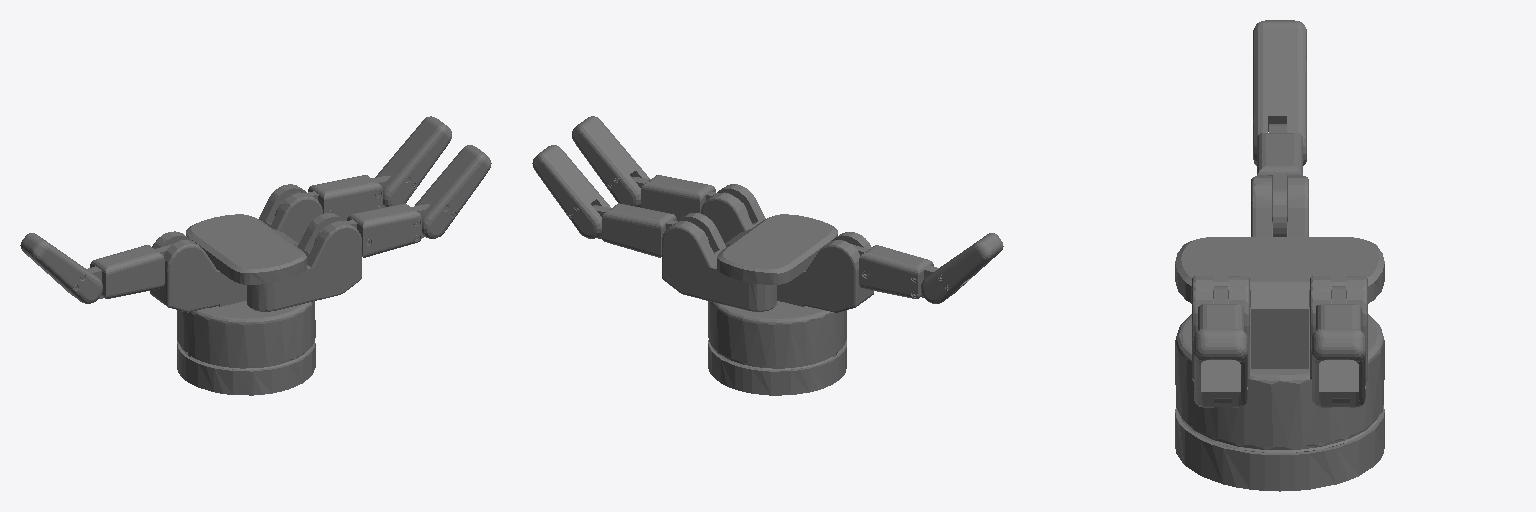
robot.urdf — wam:
<?xml version="1.0" ?>
<!-- =================================================================================== -->
<!-- |    This document was autogenerated by xacro from xacro/wam.urdf.xacro           | -->
<!-- |    EDITING THIS FILE BY HAND IS NOT RECOMMENDED                                 | -->
<!-- =================================================================================== -->
<robot name="wam" xmlns:xacro="http://www.ros.org/wiki/xacro">
  <!-- Set up definitions of parts of the robot body -->
  <!-- The first use of a macro. This one was defined in wambase.urdf.xacro above.
       A macro like this will expand to a set of link and joint definitions, and to additional
       Gazebo-related extensions (sensor plugins, etc).  The macro takes an argument, name, 
       that equals "wam", and uses it to generate names for its component links and joints 
       (e.g., wam_link_base).  The included origin block is also an argument to the macro.  By convention, 
       the origin block defines where the component is w.r.t its parent (in this case the parent 
       is the world frame). For more, see http://www.ros.org/wiki/xacro -->
  <link name="wam_link_base">
    <inertial>
      <mass value="20"/>
      <origin xyz="0.0 0.0 0.0"/>
      <inertia ixx="1.0" ixy="0.0" ixz="0.0" iyy="1.0" iyz="0.0" izz="1.0"/>
    </inertial>
    <visual>
      <origin rpy="0 0 0" xyz="0 0 0"/>
      <geometry>
        <mesh filename="package://wam_description/mesh/wambase.stl" scale="1.0 1.0 1.0"/>
      </geometry>
      <material name="Grey">
        <color rgba="0.75 0.75 0.75 1.0"/>
      </material>
    </visual>
    <collision>
      <origin rpy="0 0 0" xyz="0.0 0.0 0.0"/>
      <geometry>
        <mesh filename="package://wam_description/mesh/wambase.stl" scale="1.0 1.0 1.0"/>
      </geometry>
      <contact_coefficients kd="1.0" kp="1000.0" mu="0"/>
    </collision>
  </link>
  <link name="wam_link_footprint"/>
  <joint name="wam_joint_footprint" type="fixed">
    <origin rpy="0 0 0" xyz="0.22 0.14 0.346"/>
    <child link="wam_link_base"/>
    <parent link="wam_link_footprint"/>
  </joint>
  <gazebo reference="wam_link_base">
    <selfCollide>true</selfCollide>
    <material>Gazebo/Grey</material>
  </gazebo>
  <link name="wam_link_1">
    <inertial>
      <mass value="8.3936"/>
      <origin rpy="0 0 0" xyz="0.0 0.0 0.0"/>
      <inertia ixx="1.0" ixy="0.0" ixz="0.0" iyy="1.0" iyz="0.0" izz="1.0"/>
    </inertial>
    <visual>
      <origin rpy="0 0 0" xyz="0.0 0.0 0.0"/>
      <geometry name="wam_link_1_visual">
        <mesh filename="package://wam_description/mesh/wam1.stl" scale="1.0 1.0 1.0"/>
      </geometry>
      <material name="Grey">
        <color rgba="0.75 0.75 0.75 1.0"/>
      </material>
    </visual>
    <collision>
      <origin rpy="0 0 0" xyz="0.0 0.0 0.0"/>
      <geometry name="wam_link_1_collision">
        <mesh filename="package://wam_description/mesh/wam1.stl" scale="1.0 1.0 1.0"/>
        <!--                <box size="0.20 0.40 0.40"/> -->
      </geometry>
      <contact_coefficients kd="1.0" kp="1000.0" mu="0"/>
    </collision>
  </link>
  <gazebo reference="wam_link_1">
    <material>Gazebo/Grey</material>
    <selfCollide>true</selfCollide>
  </gazebo>
  <joint name="wam_joint_1" type="revolute">
    <parent link="wam_link_base"/>
    <child link="wam_link_1"/>
    <origin rpy="0 0 0" xyz="0.0 0.0 0.0"/>
    <axis xyz="0 0 1"/>
    <limit effort="30" lower="-2.6" upper="2.6" velocity="2.0"/>
    <!-- <safety_controller k_velocity="0.5"/> -->
    <dynamics damping="100"/>
  </joint>
  <transmission name="j1_transmission">
    <type>pr2_mechanism_model/SimpleTransmission</type>
    <actuator name="j1"/>
    <joint name="wam_joint_1"/>
    <mechanicalReduction>1</mechanicalReduction>
    <motorTorqueConstant>1</motorTorqueConstant>
    <!-- <pulsesPerRevolution>90000</pulsesPerRevolution> -->
  </transmission>
  <link name="wam_link_2">
    <inertial>
      <mass value="4.8487"/>
      <origin rpy="0 0 0" xyz="0 0 0"/>
      <inertia ixx="1.0" ixy="0.0" ixz="0.0" iyy="1.0" iyz="0.0" izz="1.0"/>
    </inertial>
    <visual>
      <origin rpy="0 0 0" xyz="0.0 0.0 0.0"/>
      <geometry name="wam_link_2_visual">
        <mesh filename="package://wam_description/mesh/wam2.stl" scale="1.0 1.0 1.0"/>
      </geometry>
      <material name="Grey">
        <color rgba="0.75 0.75 0.75 1.0"/>
      </material>
    </visual>
    <collision>
      <origin rpy="0 0 0" xyz="0.0 0.0 0.0"/>
      <geometry name="wam_link_2_collision">
        <mesh filename="package://wam_description/mesh/wam2.stl" scale="1.0 1.0 1.0"/>
        <!--                <box size="0.10 0.10 0.10"/> -->
      </geometry>
      <contact_coefficients kd="1.0" kp="1000.0" mu="0"/>
    </collision>
  </link>
  <gazebo reference="wam_link_2">
    <material>Gazebo/Grey</material>
    <selfCollide>true</selfCollide>
  </gazebo>
  <joint name="wam_joint_2" type="revolute">
    <parent link="wam_link_1"/>
    <child link="wam_link_2"/>
    <origin rpy="0 0 0" xyz="0.0 0.0 0.0"/>
    <axis xyz="0 1 0"/>
    <limit effort="30" lower="-2.0" upper="2.0" velocity="2.0"/>
    <!-- <safety_controller k_velocity="0.5"/> -->
    <dynamics damping="100"/>
  </joint>
  <transmission name="j2_transmission">
    <type>pr2_mechanism_model/SimpleTransmission</type>
    <actuator name="j2"/>
    <joint name="wam_joint_2"/>
    <mechanicalReduction>1</mechanicalReduction>
    <motorTorqueConstant>1</motorTorqueConstant>
    <!-- <pulsesPerRevolution>90000</pulsesPerRevolution> -->
  </transmission>
  <link name="wam_link_3">
    <inertial>
      <mass value="1.7251"/>
      <origin rpy="0 0 0" xyz="0 0 0.225"/>
      <inertia ixx="1.0" ixy="0.0" ixz="0.0" iyy="1.0" iyz="0.0" izz="1.0"/>
    </inertial>
    <visual>
      <origin rpy="0 0 0" xyz="0.0 0.0 0.0"/>
      <geometry name="wam_link_3_visual">
        <mesh filename="package://wam_description/mesh/wam3.stl" scale="1.0 1.0 1.0"/>
      </geometry>
      <material name="Grey">
        <color rgba="0.75 0.75 0.75 1.0"/>
      </material>
    </visual>
    <collision>
      <origin rpy="0 0 0" xyz="0.0 0.0 0.0"/>
      <geometry name="wam_link_3_collision">
        <mesh filename="package://wam_description/mesh/wam3.stl" scale="1.0 1.0 1.0"/>
        <!--                <box size="0.10 0.10 0.10"/> -->
      </geometry>
      <contact_coefficients kd="1.0" kp="1000.0" mu="0"/>
    </collision>
  </link>
  <gazebo reference="wam_link_3">
    <material>Gazebo/Grey</material>
    <selfCollide>true</selfCollide>
  </gazebo>
  <joint name="wam_joint_3" type="revolute">
    <parent link="wam_link_2"/>
    <child link="wam_link_3"/>
    <origin rpy="0 0 0" xyz="0.0 0.0 0.0"/>
    <axis xyz="0 0 1"/>
    <limit effort="30" lower="-2.8" upper="2.8" velocity="2.0"/>
    <!-- <safety_controller k_velocity="0.5"/> -->
    <dynamics damping="100"/>
  </joint>
  <transmission name="j3_transmission">
    <type>pr2_mechanism_model/SimpleTransmission</type>
    <actuator name="j3"/>
    <joint name="wam_joint_3"/>
    <mechanicalReduction>1</mechanicalReduction>
    <motorTorqueConstant>1</motorTorqueConstant>
    <!-- <pulsesPerRevolution>90000</pulsesPerRevolution> -->
  </transmission>
  <link name="wam_link_4">
    <inertial>
      <mass value="2.0824"/>
      <origin rpy="0 0 0" xyz="-0.045 -0.15 0"/>
      <inertia ixx="1.0" ixy="0.0" ixz="0.0" iyy="1.0" iyz="0.0" izz="1.0"/>
    </inertial>
    <visual>
      <origin rpy="0 0 0" xyz="0.0 0.0 0.0"/>
      <geometry name="wam_link_4_visual">
        <mesh filename="package://wam_description/mesh/wam4.stl" scale="1.0 1.0 1.0"/>
      </geometry>
      <material name="Grey">
        <color rgba="0.75 0.75 0.75 1.0"/>
      </material>
    </visual>
    <collision>
      <origin rpy="0 0 0" xyz="0.0 0.0 0.0"/>
      <geometry name="wam_link_4_collision">
        <mesh filename="package://wam_description/mesh/wam4.stl" scale="1.0 1.0 1.0"/>
        <!--                <box size="0.10 0.10 0.10"/> -->
      </geometry>
      <contact_coefficients kd="1.0" kp="1000.0" mu="0"/>
    </collision>
  </link>
  <gazebo reference="wam_link_4">
    <material>Gazebo/Grey</material>
    <selfCollide>true</selfCollide>
  </gazebo>
  <joint name="wam_joint_4" type="revolute">
    <parent link="wam_link_3"/>
    <child link="wam_link_4"/>
    <origin rpy="-1.57079632679 0 0" xyz="0.045 0.0 0.55"/>
    <axis xyz="0 0 1"/>
    <limit effort="35" lower="-0.9" upper="3.14159265359" velocity="2.0"/>
    <!-- <safety_controller k_velocity="0.5"/> -->
    <dynamics damping="100"/>
  </joint>
  <transmission name="j4_transmission">
    <type>pr2_mechanism_model/SimpleTransmission</type>
    <actuator name="j4"/>
    <joint name="wam_joint_4"/>
    <mechanicalReduction>1</mechanicalReduction>
    <motorTorqueConstant>1</motorTorqueConstant>
    <!-- <pulsesPerRevolution>90000</pulsesPerRevolution> -->
  </transmission>
  <link name="wam_link_5">
    <inertial>
      <mass value="0.3067"/>
      <origin rpy="0 0 0" xyz="0 0 0"/>
      <inertia ixx="1.0" ixy="0.0" ixz="0.0" iyy="1.0" iyz="0.0" izz="1.0"/>
    </inertial>
    <visual>
      <origin rpy="0 0 0" xyz="0.0 0.0 0.0"/>
      <geometry name="wam_link_5_visual">
        <mesh filename="package://wam_description/mesh/wam5.stl" scale="1.0 1.0 1.0"/>
      </geometry>
      <material name="Grey">
        <color rgba="0.75 0.75 0.75 1.0"/>
      </material>
    </visual>
    <collision>
      <origin rpy="0 0 0" xyz="0.0 0.0 0.0"/>
      <geometry name="wam_link_5_collision">
        <mesh filename="package://wam_description/mesh/wam5.stl" scale="1.0 1.0 1.0"/>
        <!--                <box size="0.10 0.10 0.10"/> -->
      </geometry>
      <contact_coefficients kd="1.0" kp="1000.0" mu="0"/>
    </collision>
  </link>
  <gazebo reference="wam_link_5">
    <material>Gazebo/Grey</material>
    <selfCollide>true</selfCollide>
  </gazebo>
  <joint name="wam_joint_5" type="revolute">
    <parent link="wam_link_4"/>
    <child link="wam_link_5"/>
    <origin rpy="1.57079632679 0 0" xyz="-0.045 -0.3 0.0"/>
    <axis xyz="0 0 1"/>
    <limit effort="30" lower="-4.76" upper="1.24" velocity="2.0"/>
    <!-- <safety_controller k_velocity="0.5"/> -->
    <dynamics damping="100"/>
  </joint>
  <transmission name="j5_transmission">
    <type>pr2_mechanism_model/SimpleTransmission</type>
    <actuator name="j5"/>
    <joint name="wam_joint_5"/>
    <mechanicalReduction>1</mechanicalReduction>
    <motorTorqueConstant>1</motorTorqueConstant>
    <!-- <pulsesPerRevolution>90000</pulsesPerRevolution> -->
  </transmission>
  <link name="wam_link_6">
    <inertial>
      <mass value="0.4278"/>
      <origin rpy="0 0 0" xyz="0 0 0"/>
      <inertia ixx="1.0" ixy="0.0" ixz="0.0" iyy="1.0" iyz="0.0" izz="1.0"/>
    </inertial>
    <visual>
      <origin rpy="0 0 0" xyz="0.0 0.0 0.0"/>
      <geometry name="wam_link_6_visual">
        <mesh filename="package://wam_description/mesh/wam6.stl" scale="1.0 1.0 1.0"/>
      </geometry>
      <material name="Grey">
        <color rgba="0.75 0.75 0.75 1.0"/>
      </material>
    </visual>
    <collision>
      <origin rpy="0 0 0" xyz="0.0 0.0 0.0"/>
      <geometry name="wam_link_6_collision">
        <mesh filename="package://wam_description/mesh/wam6.stl" scale="1.0 1.0 1.0"/>
        <!--                <box size="0.10 0.10 0.10"/> -->
      </geometry>
      <contact_coefficients kd="1.0" kp="1000.0" mu="0"/>
    </collision>
  </link>
  <gazebo reference="wam_link_6">
    <material>Gazebo/Grey</material>
    <selfCollide>true</selfCollide>
  </gazebo>
  <joint name="wam_joint_6" type="revolute">
    <parent link="wam_link_5"/>
    <child link="wam_link_6"/>
    <origin rpy="-1.57079632679 0 0" xyz="0.0 0.0 0.0"/>
    <axis xyz="0 0 1"/>
    <limit effort="30" lower="-1.6" upper="1.6" velocity="2.0"/>
    <!-- <safety_controller k_velocity="0.5"/> -->
    <dynamics damping="100"/>
  </joint>
  <transmission name="j6_transmission">
    <type>pr2_mechanism_model/SimpleTransmission</type>
    <actuator name="j6"/>
    <joint name="wam_joint_6"/>
    <mechanicalReduction>1</mechanicalReduction>
    <motorTorqueConstant>1</motorTorqueConstant>
    <!-- <pulsesPerRevolution>90000</pulsesPerRevolution> -->
  </transmission>
  <link name="wam_link_7">
    <inertial>
      <mass value="0.0557"/>
      <origin rpy="0 0 0" xyz="0 0 0"/>
      <inertia ixx="1.0" ixy="0.0" ixz="0.0" iyy="1.0" iyz="0.0" izz="1.0"/>
    </inertial>
    <visual>
      <origin rpy="0 0 0" xyz="0.0 0.0 0.0"/>
      <geometry name="wam_link_7_visual">
        <mesh filename="package://wam_description/mesh/wam7.stl" scale="1.0 1.0 1.0"/>
      </geometry>
      <material name="Grey">
        <color rgba="0.75 0.75 0.75 1.0"/>
      </material>
    </visual>
    <collision>
      <origin rpy="0 0 0" xyz="0.0 0.0 0.0"/>
      <geometry name="wam_link_7_collision">
        <mesh filename="package://wam_description/mesh/wam7.stl" scale="1.0 1.0 1.0"/>
        <!--                <box size="0.10 0.10 0.10"/> -->
      </geometry>
      <contact_coefficients kd="1.0" kp="1000.0" mu="0"/>
    </collision>
  </link>
  <gazebo reference="wam_link_7">
    <material>Gazebo/Grey</material>
    <selfCollide>true</selfCollide>
  </gazebo>
  <joint name="wam_joint_7" type="revolute">
    <parent link="wam_link_6"/>
    <child link="wam_link_7"/>
    <origin rpy="1.57079632679 0 0" xyz="0.0 0.0 0.0"/>
    <axis xyz="0 0 1"/>
    <limit effort="30" lower="-3.0" upper="3.0" velocity="2.0"/>
    <!-- <safety_controller k_velocity="0.5"/> -->
    <dynamics damping="100"/>
  </joint>
  <transmission name="j7_transmission">
    <type>pr2_mechanism_model/SimpleTransmission</type>
    <actuator name="j7"/>
    <joint name="wam_joint_7"/>
    <mechanicalReduction>1</mechanicalReduction>
    <motorTorqueConstant>1</motorTorqueConstant>
    <!-- <pulsesPerRevolution>90000</pulsesPerRevolution> -->
  </transmission>
  <link name="wam_link_tcp"/>
  <joint name="wam_joint_tcp" type="fixed">
    <parent link="wam_link_7"/>
    <child link="wam_link_tcp"/>
    <origin rpy="0 0 0" xyz="0.0 0.0 0.06"/>
  </joint>
  <link name="bhand_base_link">
    <visual>
      <origin rpy="0 0 0" xyz="0 0 0"/>
      <geometry>
        <mesh filename="package://wam_description/mesh/bh_base.stl"/>
      </geometry>
      <material name="Grey">
        <color rgba="0.5 0.5 0.5 1.0"/>
      </material>
    </visual>
    <collision>
      <origin rpy="0 0 0" xyz="0 0 0"/>
      <geometry>
        <mesh filename="package://wam_description/mesh/bh_base.stl"/>
      </geometry>
      <contact_coefficients kd="1.0" kp="1000.0" mu="0"/>
    </collision>
  </link>
  <joint name="bhand_joint_fixed" type="fixed">
    <parent link="wam_link_7"/>
    <child link="bhand_base_link"/>
    <origin rpy="0 0 0" xyz="0 0 0"/>
    <axis xyz="0 0 1"/>
    <limit effort="30" lower="0.0" upper="3.14159265359" velocity="2.0"/>
  </joint>
  <link name="bhand_finger1_link_1">
    <visual>
      <origin rpy="0 0 0" xyz="0 0 0"/>
      <geometry>
        <mesh filename="package://wam_description/mesh/bh_link1.stl"/>
      </geometry>
      <material name="Grey">
        <color rgba="0.5 0.5 0.5 1.0"/>
      </material>
    </visual>
    <collision>
      <origin rpy="0 0 0" xyz="0 0 0"/>
      <geometry>
        <mesh filename="package://wam_description/mesh/bh_link1.stl"/>
      </geometry>
    </collision>
  </link>
  <joint name="bhand_spread" type="fixed">
    <parent link="bhand_base_link"/>
    <child link="bhand_finger1_link_1"/>
    <origin rpy="0 0 0" xyz="0 -0.025 0.133"/>
  </joint>
  <link name="bhand_finger2_link_1">
    <visual>
      <origin rpy="0 0 0" xyz="0 0 0"/>
      <geometry>
        <mesh filename="package://wam_description/mesh/bh_link1.stl"/>
      </geometry>
      <material name="Grey">
        <color rgba="0.5 0.5 0.5 1.0"/>
      </material>
    </visual>
    <collision>
      <origin rpy="0 0 0" xyz="0 0 0"/>
      <geometry>
        <mesh filename="package://wam_description/mesh/bh_link1.stl"/>
      </geometry>
    </collision>
  </link>
  <joint name="bhand_spread_finger2" type="fixed">
    <parent link="bhand_base_link"/>
    <child link="bhand_finger2_link_1"/>
    <origin rpy="0 0 0" xyz="0 0.025 0.133"/>
  </joint>
  <link name="bhand_finger3_link_1">
    <visual>
      <origin rpy="0 0 0" xyz="0 0 0"/>
      <geometry>
        <mesh filename="package://wam_description/mesh/bh_link1.stl"/>
      </geometry>
      <material name="Grey">
        <color rgba="0.5 0.5 0.5 1.0"/>
      </material>
    </visual>
    <collision>
      <origin rpy="0 0 0" xyz="0 0 0"/>
      <geometry>
        <mesh filename="package://wam_description/mesh/bh_link1.stl"/>
      </geometry>
    </collision>
  </link>
  <joint name="bhand_finger3_joint_1" type="fixed">
    <parent link="bhand_base_link"/>
    <child link="bhand_finger3_link_1"/>
    <origin rpy="0 0 3.14159265359" xyz="0 0 0.133"/>
  </joint>
  <link name="bhand_finger1_link_2">
    <visual>
      <origin rpy="0 0 0" xyz="0 0 0"/>
      <geometry>
        <mesh filename="package://wam_description/mesh/bh_link2.stl"/>
      </geometry>
      <material name="Grey">
        <color rgba="0.5 0.5 0.5 1.0"/>
      </material>
    </visual>
    <collision>
      <origin rpy="0 0 0" xyz="0 0 0"/>
      <geometry>
        <mesh filename="package://wam_description/mesh/bh_link2.stl"/>
      </geometry>
    </collision>
  </link>
  <joint name="bhand_finger1" type="revolute">
    <parent link="bhand_finger1_link_1"/>
    <child link="bhand_finger1_link_2"/>
    <origin rpy="1.57079632679 0 0" xyz="0.050 0 0"/>
    <axis xyz="0 0 1"/>
    <limit effort="30" lower="0.0" upper="2.44346095279" velocity="2.0"/>
  </joint>
  <link name="bhand_finger1_link_3">
    <visual>
      <origin rpy="0 0 0" xyz="0 0 0"/>
      <geometry>
        <mesh filename="package://wam_description/mesh/bh_link3.stl"/>
      </geometry>
      <material name="Grey">
        <color rgba="0.5 0.5 0.5 1.0"/>
      </material>
    </visual>
    <collision>
      <origin rpy="0 0 0" xyz="0 0 0"/>
      <geometry>
        <mesh filename="package://wam_description/mesh/bh_link3.stl"/>
      </geometry>
    </collision>
  </link>
  <joint name="bhand_finger1_joint_3" type="revolute">
    <parent link="bhand_finger1_link_2"/>
    <child link="bhand_finger1_link_3"/>
    <origin rpy="0 0 0.733038285838" xyz="0.070 0 0"/>
    <axis xyz="0 0 1"/>
    <limit effort="30" lower="0" upper="0.837758040957" velocity="2.0"/>
    <mimic joint="bhand_finger1" multiplier="0.342857142857" offset="0"/>
  </joint>
  <link name="bhand_finger2_link_2">
    <visual>
      <origin rpy="0 0 0" xyz="0 0 0"/>
      <geometry>
        <mesh filename="package://wam_description/mesh/bh_link2.stl"/>
      </geometry>
      <material name="Grey">
        <color rgba="0.5 0.5 0.5 1.0"/>
      </material>
    </visual>
    <collision>
      <origin rpy="0 0 0" xyz="0 0 0"/>
      <geometry>
        <mesh filename="package://wam_description/mesh/bh_link2.stl"/>
      </geometry>
    </collision>
  </link>
  <joint name="bhand_finger2" type="revolute">
    <parent link="bhand_finger2_link_1"/>
    <child link="bhand_finger2_link_2"/>
    <origin rpy="1.57079632679 0 0" xyz="0.050 0 0"/>
    <axis xyz="0 0 1"/>
    <limit effort="30" lower="0.0" upper="2.44346095279" velocity="2.0"/>
  </joint>
  <link name="bhand_finger2_link_3">
    <visual>
      <origin rpy="0 0 0" xyz="0 0 0"/>
      <geometry>
        <mesh filename="package://wam_description/mesh/bh_link3.stl"/>
      </geometry>
      <material name="Grey">
        <color rgba="0.5 0.5 0.5 1.0"/>
      </material>
    </visual>
    <collision>
      <origin rpy="0 0 0" xyz="0 0 0"/>
      <geometry>
        <mesh filename="package://wam_description/mesh/bh_link3.stl"/>
      </geometry>
    </collision>
  </link>
  <joint name="bhand_finger2_joint_3" type="revolute">
    <parent link="bhand_finger2_link_2"/>
    <child link="bhand_finger2_link_3"/>
    <origin rpy="0 0 0.733038285838" xyz="0.070 0 0"/>
    <axis xyz="0 0 1"/>
    <limit effort="30" lower="0" upper="0.837758040957" velocity="2.0"/>
    <mimic joint="bhand_finger2" multiplier="0.342857142857" offset="0"/>
  </joint>
  <link name="bhand_finger3_link_2">
    <visual>
      <origin rpy="0 0 0" xyz="0 0 0"/>
      <geometry>
        <mesh filename="package://wam_description/mesh/bh_link2.stl"/>
      </geometry>
      <material name="Grey">
        <color rgba="0.5 0.5 0.5 1.0"/>
      </material>
    </visual>
    <collision>
      <origin rpy="0 0 0" xyz="0 0 0"/>
      <geometry>
        <mesh filename="package://wam_description/mesh/bh_link2.stl"/>
      </geometry>
    </collision>
  </link>
  <joint name="bhand_finger3" type="revolute">
    <parent link="bhand_finger3_link_1"/>
    <child link="bhand_finger3_link_2"/>
    <origin rpy="1.57079632679 0 0" xyz="0.050 0 0"/>
    <axis xyz="0 0 1"/>
    <limit effort="30" lower="0.0" upper="2.44346095279" velocity="2.0"/>
  </joint>
  <link name="bhand_finger3_link_3">
    <visual>
      <origin rpy="0 0 0" xyz="0 0 0"/>
      <geometry>
        <mesh filename="package://wam_description/mesh/bh_link3.stl"/>
      </geometry>
      <material name="Grey">
        <color rgba="0.5 0.5 0.5 1.0"/>
      </material>
    </visual>
    <collision>
      <origin rpy="0 0 0" xyz="0 0 0"/>
      <geometry>
        <mesh filename="package://wam_description/mesh/bh_link3.stl"/>
      </geometry>
    </collision>
  </link>
  <joint name="bhand_finger3_joint_3" type="revolute">
    <parent link="bhand_finger3_link_2"/>
    <child link="bhand_finger3_link_3"/>
    <origin rpy="0 0 0.733038285838" xyz="0.070 0 0"/>
    <axis xyz="0 0 1"/>
    <limit effort="30" lower="0" upper="0.837758040957" velocity="2.0"/>
    <mimic joint="bhand_finger3" multiplier="0.342857142857" offset="0"/>
  </joint>
</robot>

--- Render facts (derived) ---
Views: 3 orthographic renders of the robot side by side, from view 1: azimuth 30°, elevation 25°; view 2: azimuth 150°, elevation 25°; view 3: azimuth 270°, elevation 25°.
Robot: wam — 20 links, 19 joints (13 revolute, 6 fixed); root link wam_link_footprint; default pose: every joint at zero.
Visible links, largest first — view 1: bhand_base_link, bhand_finger1_link_1, bhand_finger3_link_1, bhand_finger1_link_3, bhand_finger2_link_3, bhand_finger3_link_2, bhand_finger1_link_2, bhand_finger3_link_3, bhand_finger2_link_2, bhand_finger2_link_1; view 2: bhand_base_link, bhand_finger2_link_1, bhand_finger3_link_1, bhand_finger2_link_3, bhand_finger1_link_3, bhand_finger3_link_2, bhand_finger2_link_2, bhand_finger3_link_3, bhand_finger1_link_2, bhand_finger1_link_1; view 3: bhand_base_link, bhand_finger3_link_3, bhand_finger2_link_3, bhand_finger1_link_3, bhand_finger3_link_2, bhand_finger3_link_1, bhand_finger1_link_1, bhand_finger2_link_1, bhand_finger1_link_2, bhand_finger2_link_2.
Boxes of the visible links, box(x1,y1,x2,y2) form: bhand_base_link: box(177, 214, 315, 395); bhand_finger1_link_1: box(247, 213, 361, 311); bhand_finger3_link_1: box(150, 231, 219, 312); bhand_finger1_link_3: box(415, 145, 491, 238); bhand_finger2_link_3: box(375, 116, 451, 206); bhand_finger3_link_2: box(73, 244, 171, 298); bhand_finger1_link_2: box(314, 203, 429, 257); bhand_finger3_link_3: box(20, 233, 102, 303); bhand_finger2_link_2: box(275, 175, 390, 220); bhand_finger2_link_1: box(259, 184, 322, 243); bhand_base_link: box(708, 214, 846, 395); bhand_finger2_link_1: box(662, 213, 776, 311); bhand_finger3_link_1: box(790, 232, 873, 312); bhand_finger2_link_3: box(532, 145, 610, 238); bhand_finger1_link_3: box(572, 116, 650, 206); bhand_finger3_link_2: box(852, 244, 954, 298); bhand_finger2_link_2: box(593, 203, 709, 257); bhand_finger3_link_3: box(921, 233, 1003, 303); bhand_finger1_link_2: box(632, 175, 748, 220); bhand_finger1_link_1: box(701, 184, 765, 243); bhand_base_link: box(1175, 237, 1384, 491); bhand_finger3_link_3: box(1253, 20, 1306, 165); bhand_finger2_link_3: box(1312, 329, 1365, 407); bhand_finger1_link_3: box(1194, 329, 1247, 407); bhand_finger3_link_2: box(1257, 124, 1302, 236); bhand_finger3_link_1: box(1251, 176, 1308, 236); bhand_finger1_link_1: box(1192, 276, 1249, 381); bhand_finger2_link_1: box(1310, 276, 1367, 381); bhand_finger1_link_2: box(1198, 286, 1243, 406); bhand_finger2_link_2: box(1316, 286, 1361, 406).
Bounding box of the posed robot: 0.3243 × 0.089 × 0.1271 m (x, y, z).
Meshes: 12 distinct files referenced, 10 mesh visuals loaded (4 binary STL); not drawn: 8 (reference not matched to a file when rendering).